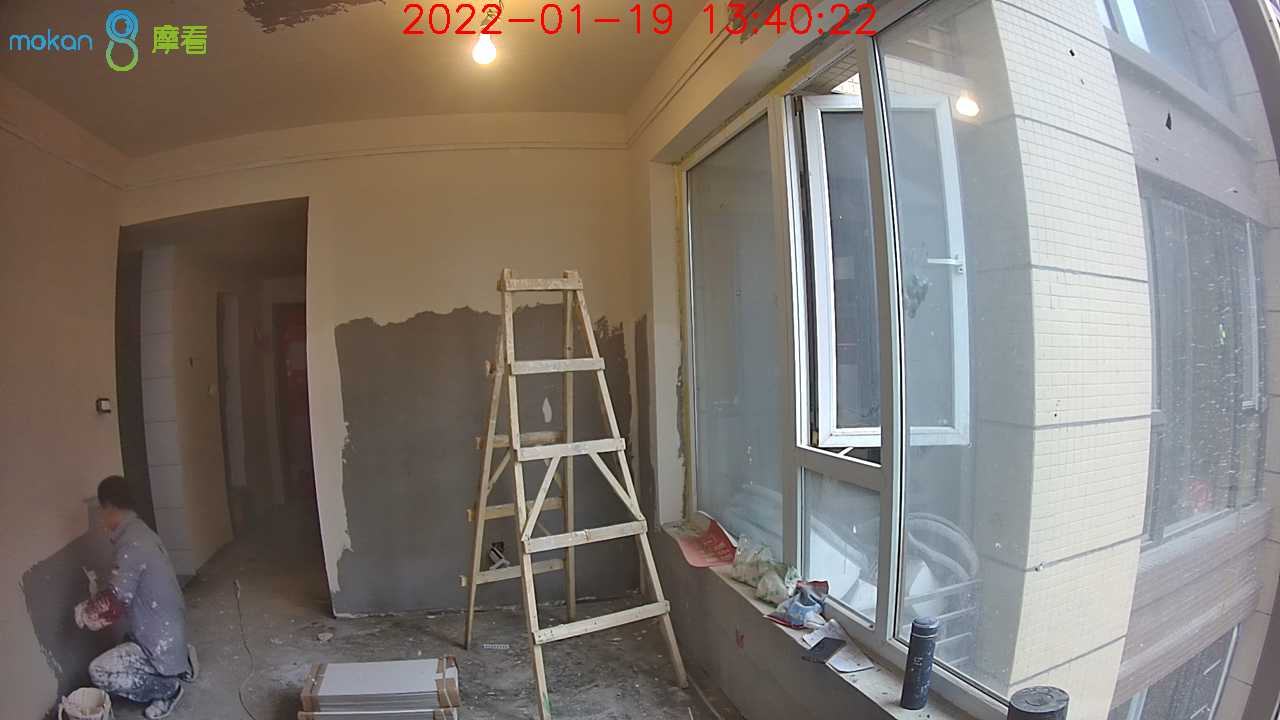people: (80, 476, 197, 716)
window: (668, 9, 1280, 717)
